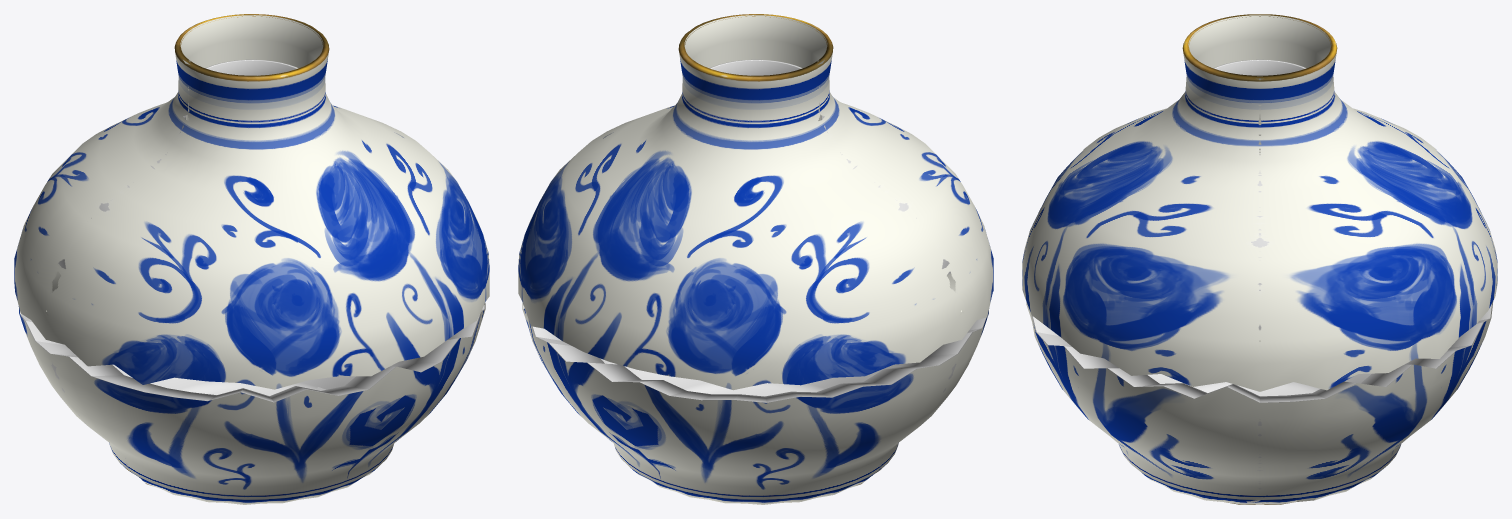
The model's file is Broken Vase 2.0.fbx.
3 views of the same model, side by side, from view 1: azimuth 30°, elevation 25°; view 2: azimuth 150°, elevation 25°; view 3: azimuth 270°, elevation 25° (orthographic).
Parts seen in each view (by area): view 1: Broken_Vase:polySurface2pCylinder3, Broken_Vase:pCylinder3polySurface1, polySurface2pCylinder3, pCylinder3polySurface1; view 2: Broken_Vase:polySurface2pCylinder3, Broken_Vase:pCylinder3polySurface1, polySurface2pCylinder3, pCylinder3polySurface1; view 3: Broken_Vase:polySurface2pCylinder3, Broken_Vase:pCylinder3polySurface1, polySurface2pCylinder3, pCylinder3polySurface1.
Part boxes in pixels (bbox=[...]): Broken_Vase:polySurface2pCylinder3: bbox=[14, 14, 489, 389]; Broken_Vase:pCylinder3polySurface1: bbox=[18, 303, 485, 504]; polySurface2pCylinder3: bbox=[44, 16, 405, 315]; pCylinder3polySurface1: bbox=[20, 305, 484, 470]; Broken_Vase:polySurface2pCylinder3: bbox=[518, 14, 993, 390]; Broken_Vase:pCylinder3polySurface1: bbox=[522, 303, 988, 504]; polySurface2pCylinder3: bbox=[602, 16, 963, 315]; pCylinder3polySurface1: bbox=[523, 305, 986, 469]; Broken_Vase:polySurface2pCylinder3: bbox=[1022, 14, 1497, 391]; Broken_Vase:pCylinder3polySurface1: bbox=[1026, 301, 1493, 504]; polySurface2pCylinder3: bbox=[1188, 16, 1331, 346]; pCylinder3polySurface1: bbox=[1031, 304, 1491, 504].
Bounding box in the file's own units: 73.56 × 69.9 × 73.55.
